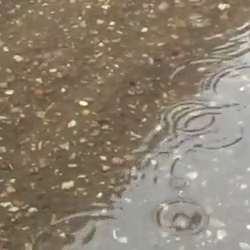drop: (29, 206, 116, 250), (172, 107, 245, 151), (168, 58, 245, 98), (154, 199, 209, 236), (205, 64, 250, 105), (162, 100, 216, 134), (188, 14, 208, 27), (168, 177, 187, 190)
